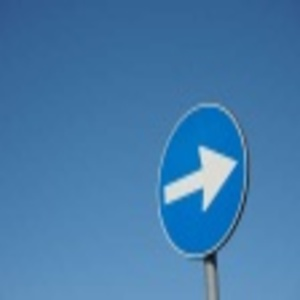trun_right: (156, 104, 251, 259)
